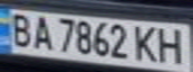2: (109, 21, 133, 61)
6: (90, 20, 112, 57)
7: (51, 16, 75, 53)
8: (72, 18, 93, 55)
A: (27, 13, 57, 51)
B: (3, 10, 36, 47)
H: (154, 25, 190, 65)
K: (130, 24, 160, 63)
